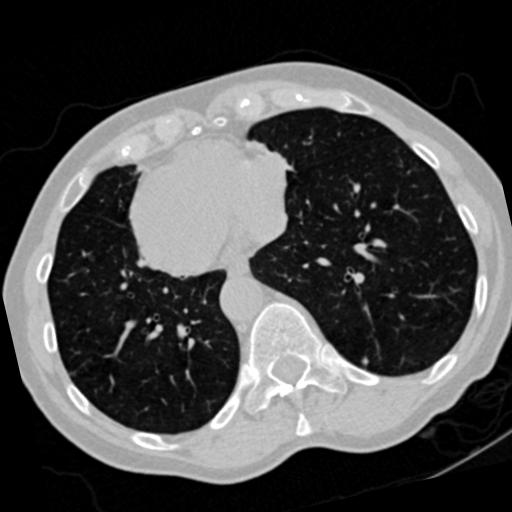nodule: (360, 354, 374, 368)
